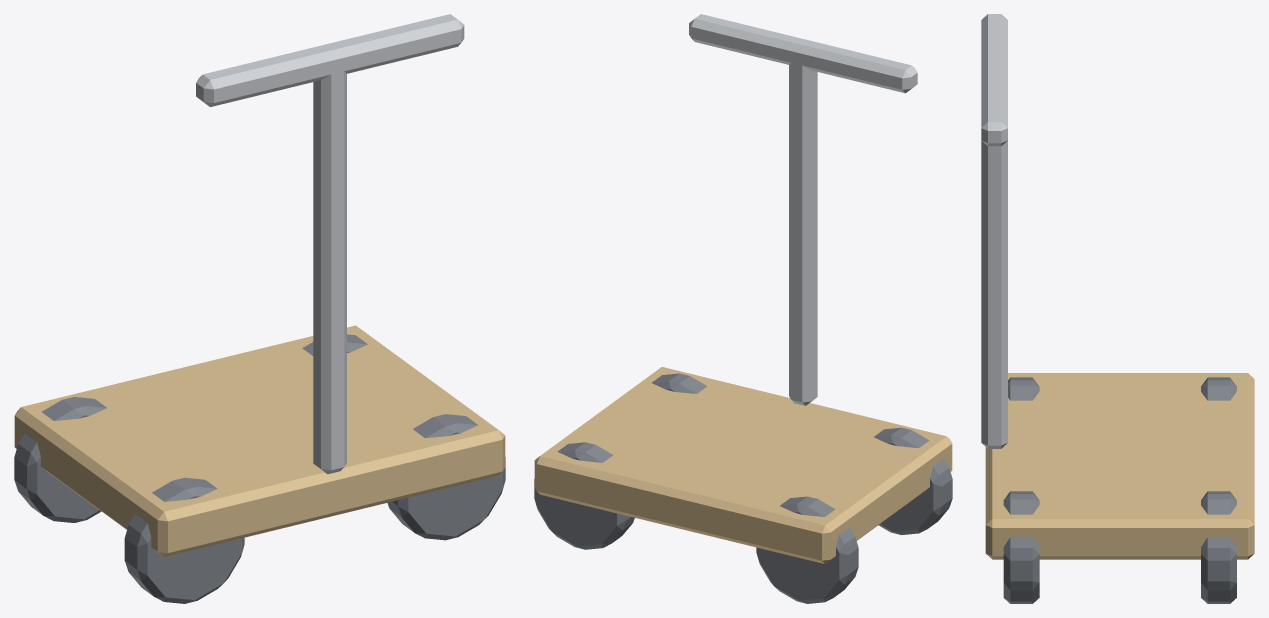
File: 道具_手推车_01.fbx
The picture shows the model from 3 angles, left to right: view 1: azimuth 30°, elevation 25°; view 2: azimuth 150°, elevation 25°; view 3: azimuth 270°, elevation 25°; orthographic projection. The views are drawn at different scales.
Parts seen in each view (by area): view 1: 底板, 把手, 车轮.001; view 2: 底板, 把手, 车轮.001; view 3: 底板, 把手, 车轮.001.
Part boxes in pixels (x1=…): 底板: x1=14, y1=325, x2=505, y2=557; 把手: x1=196, y1=14, x2=464, y2=474; 车轮.001: x1=14, y1=334, x2=505, y2=603; 底板: x1=534, y1=367, x2=952, y2=563; 把手: x1=689, y1=14, x2=917, y2=405; 车轮.001: x1=534, y1=373, x2=952, y2=603; 底板: x1=985, y1=373, x2=1254, y2=559; 把手: x1=981, y1=14, x2=1007, y2=448; 车轮.001: x1=1003, y1=377, x2=1236, y2=603.
Size of the model in its own units: 84.73 by 117 by 61.
